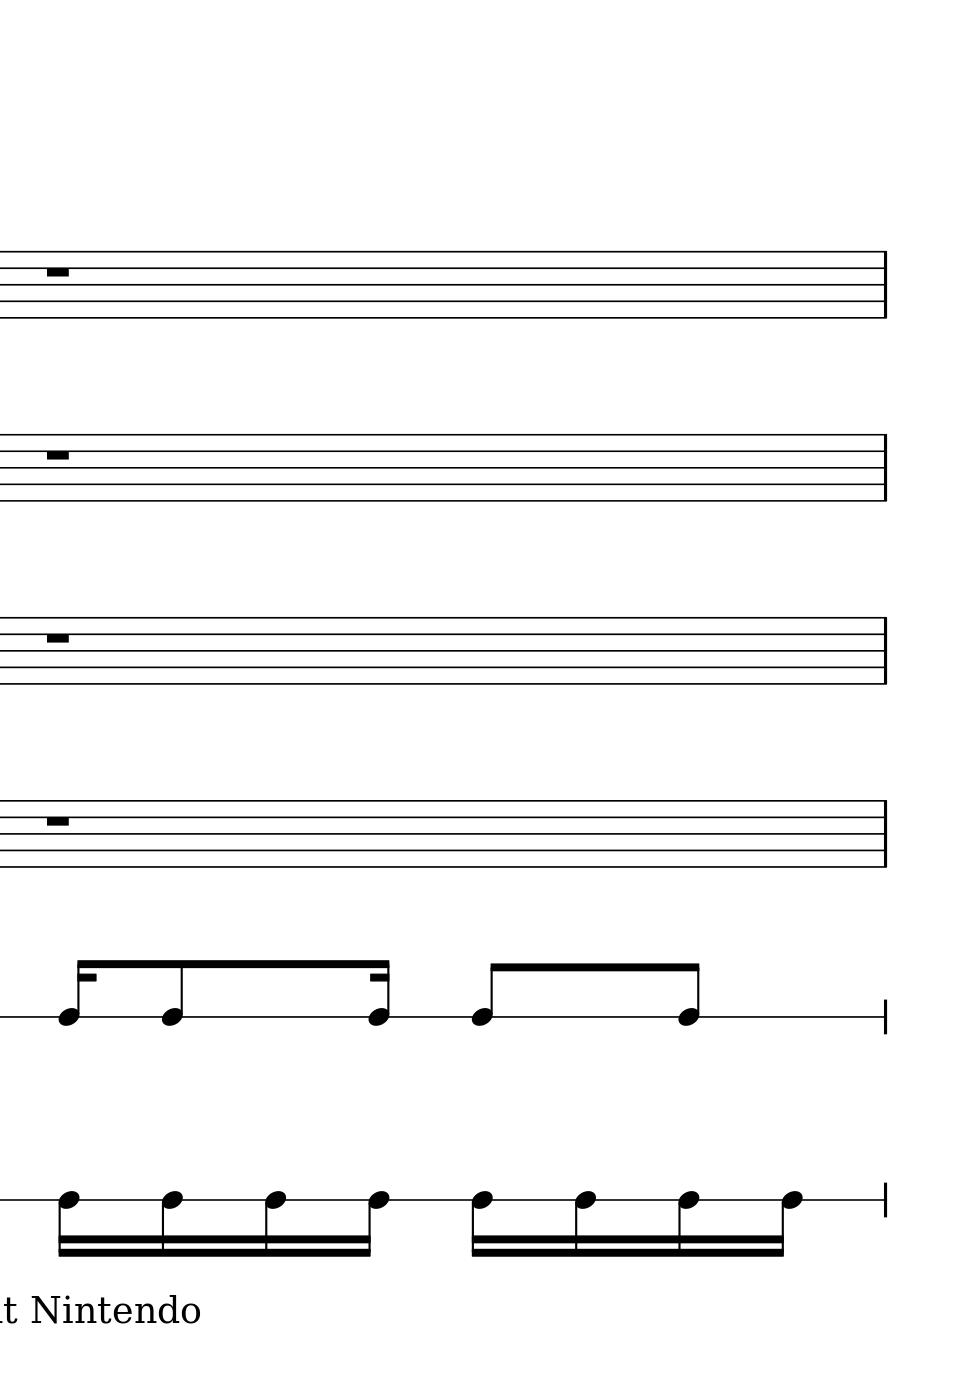16_4: (58, 957, 97, 1027), (769, 1190, 802, 1259), (358, 1190, 390, 1260), (367, 957, 392, 1027), (469, 1189, 493, 1261), (675, 1189, 699, 1260), (56, 1189, 80, 1261), (159, 1189, 182, 1260), (262, 1189, 285, 1260), (572, 1189, 595, 1260)
8_4: (469, 961, 503, 1027), (159, 957, 183, 1027), (677, 961, 701, 1028)
Rests1: (41, 262, 73, 281), (41, 445, 73, 464), (41, 629, 73, 647), (42, 812, 73, 829)
Single_barline: (876, 251, 893, 318), (876, 434, 893, 501), (876, 617, 893, 684), (876, 801, 893, 867)
